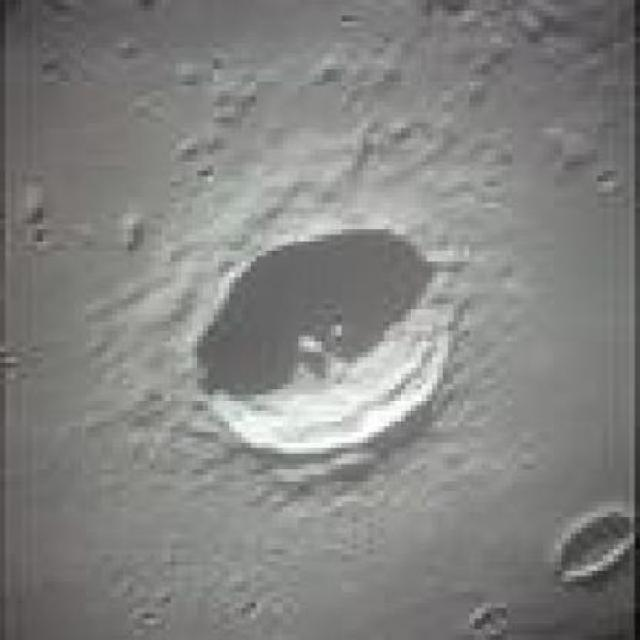crater: (196, 226, 444, 451)
